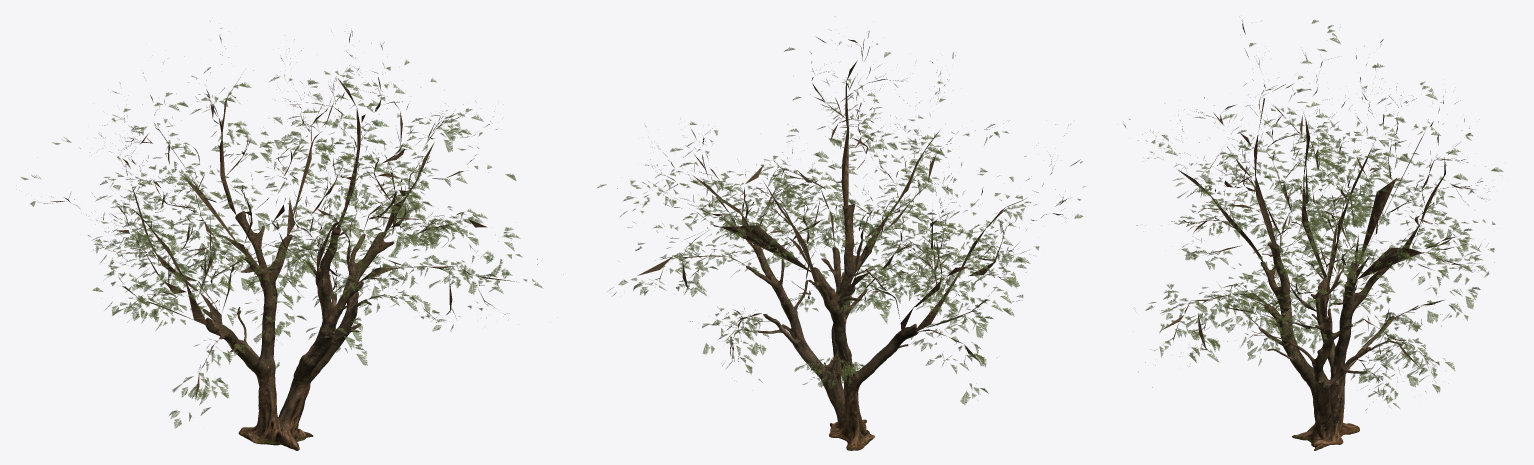
The model's file is jacaranda_tree_lod2.glb.
The picture shows the model from 3 angles, left to right: view 1: azimuth 30°, elevation 25°; view 2: azimuth 150°, elevation 25°; view 3: azimuth 270°, elevation 25°; orthographic projection. The views are drawn at different scales.
Parts seen in each view (by area): view 1: jacaranda_tree_LOD0; view 2: jacaranda_tree_LOD0; view 3: jacaranda_tree_LOD0.
Boxes of the visible parts, x1,y1,x2,y2 form: jacaranda_tree_LOD0: (21, 21, 542, 450); jacaranda_tree_LOD0: (597, 30, 1084, 450); jacaranda_tree_LOD0: (1123, 20, 1503, 450).
Size of the model in its own units: 23.29 by 19.33 by 18.17.
3 materials, 3 textured.
